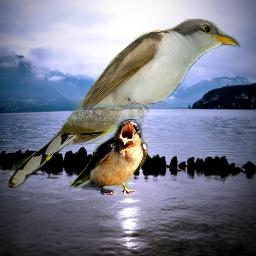Cuckoo: (3, 16, 245, 191)
Swallow: (69, 119, 148, 195)
